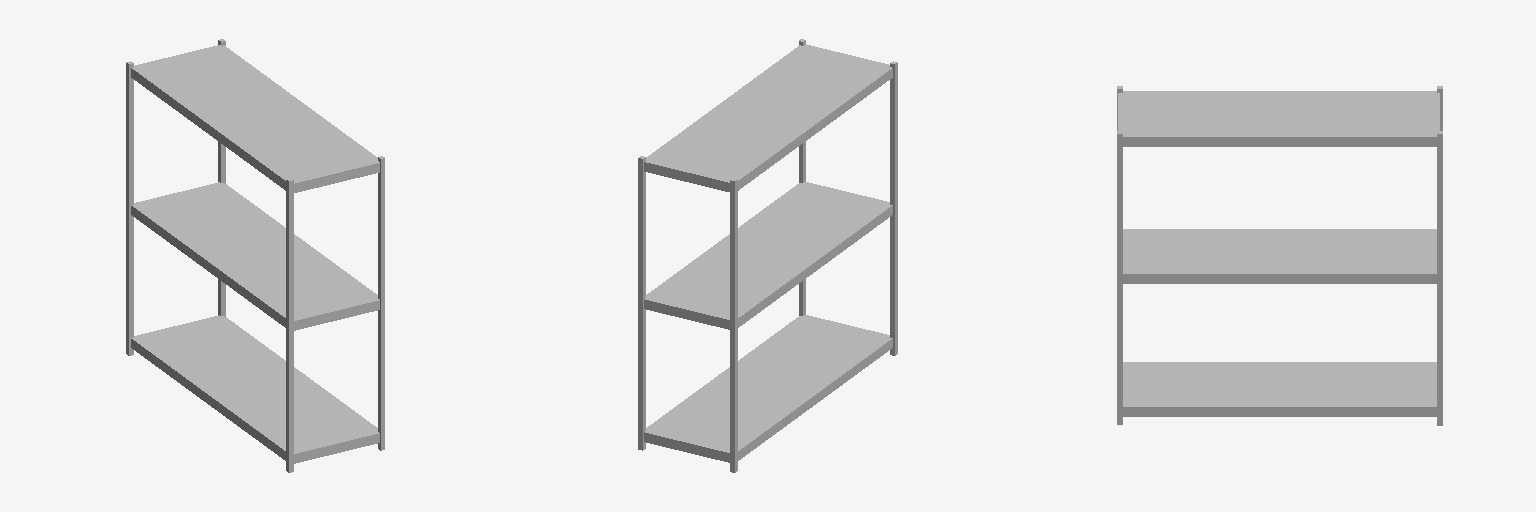
Rendered from SteelShelf.obj.
The picture shows the model from 3 angles: view 1: azimuth 30°, elevation 25°; view 2: azimuth 150°, elevation 25°; view 3: azimuth 270°, elevation 25°; orthographic projection.
Visible parts, largest first — view 1: pCube7, pCube6, pCube1, pCube3, pCube4, pCube2, pCube5; view 2: pCube7, pCube1, pCube6, pCube4, pCube5, pCube3, pCube2; view 3: pCube7, pCube6, pCube1, pCube5, pCube2.
Part boxes in pixels (x1,y1,x2,y2): pCube7: (131, 45, 379, 192); pCube6: (131, 182, 379, 330); pCube1: (131, 315, 379, 463); pCube3: (286, 178, 293, 472); pCube4: (126, 61, 133, 355); pCube2: (378, 156, 384, 450); pCube5: (218, 39, 225, 316); pCube7: (644, 44, 892, 191); pCube1: (644, 315, 892, 462); pCube6: (644, 182, 892, 329); pCube4: (730, 178, 737, 472); pCube5: (638, 156, 645, 450); pCube3: (890, 61, 897, 355); pCube2: (799, 39, 805, 315); pCube7: (1118, 91, 1439, 146); pCube6: (1123, 229, 1436, 283); pCube1: (1123, 362, 1436, 416); pCube5: (1437, 131, 1442, 425); pCube2: (1117, 131, 1122, 424).
Bounding box in the file's own units: 2.08 × 6 × 6.06.